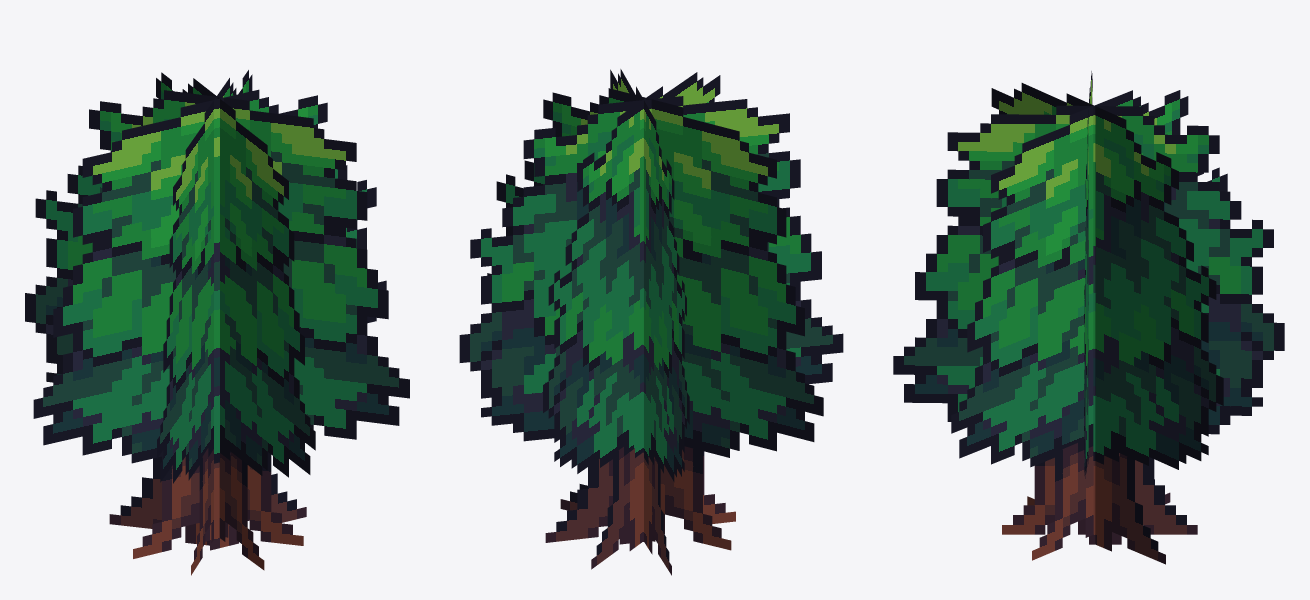
Rendered from Arbol.gltf.
The picture shows the model from 3 angles, left to right: view 1: azimuth 30°, elevation 25°; view 2: azimuth 150°, elevation 25°; view 3: azimuth 270°, elevation 25°; orthographic projection. The views are drawn at different scales.
Visible parts, largest first — view 1: Hoja1, Hoja4, Hoja3, Hoja2, Tronco1, Tronco4, Tronco3, Tronco2; view 2: Hoja1, Hoja2, Hoja3, Hoja4, Tronco2, Tronco1, Tronco3, Tronco4; view 3: Hoja4, Hoja3, Hoja2, Tronco3, Tronco2, Tronco4, Hoja1.
Boxes of the visible parts, x1=… form: Hoja1: x1=33, y1=89, x2=386, y2=463; Hoja4: x1=25, y1=90, x2=409, y2=452; Hoja3: x1=156, y1=72, x2=315, y2=477; Hoja2: x1=157, y1=70, x2=252, y2=483; Tronco1: x1=133, y1=451, x2=306, y2=558; Tronco4: x1=109, y1=452, x2=303, y2=545; Tronco3: x1=219, y1=452, x2=264, y2=570; Tronco2: x1=191, y1=448, x2=213, y2=575; Hoja1: x1=487, y1=88, x2=823, y2=457; Hoja2: x1=459, y1=96, x2=843, y2=452; Hoja3: x1=543, y1=72, x2=720, y2=473; Hoja4: x1=610, y1=69, x2=689, y2=481; Tronco2: x1=545, y1=451, x2=735, y2=544; Tronco1: x1=560, y1=446, x2=731, y2=550; Tronco3: x1=591, y1=447, x2=642, y2=569; Tronco4: x1=644, y1=458, x2=671, y2=575; Hoja4: x1=951, y1=90, x2=1227, y2=467; Hoja3: x1=893, y1=105, x2=1284, y2=460; Hoja2: x1=991, y1=83, x2=1223, y2=469; Tronco3: x1=1002, y1=453, x2=1197, y2=544; Tronco2: x1=1027, y1=453, x2=1165, y2=564; Tronco4: x1=1032, y1=443, x2=1170, y2=560; Hoja1: x1=1084, y1=71, x2=1092, y2=478.
Size of the model in its own units: 2.38 by 2.78 by 2.38.
2 materials, 2 textured.
